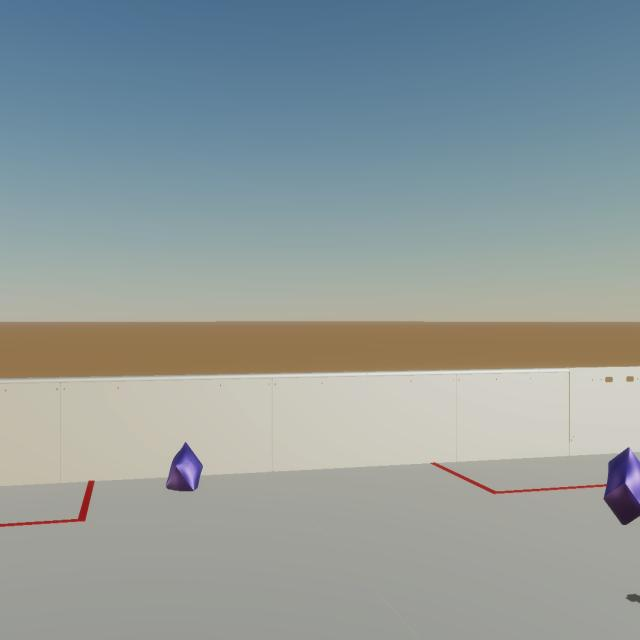frc_cube: (603, 447, 640, 524), (166, 442, 203, 491)
